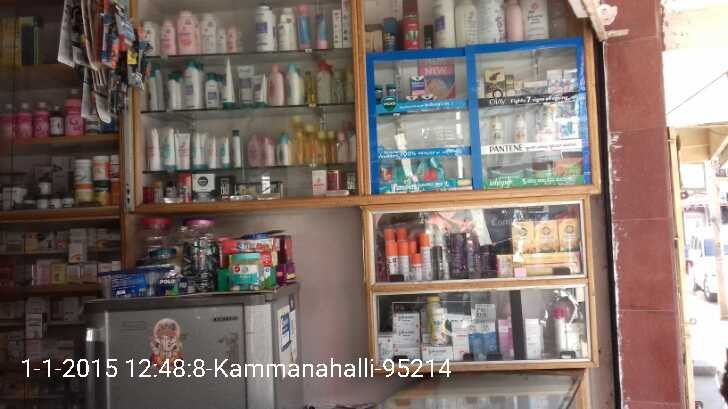beauty: (485, 67, 505, 95), (491, 115, 505, 144), (514, 114, 526, 145), (505, 75, 514, 94)
pharmacy: (409, 77, 427, 96), (387, 83, 397, 97)
